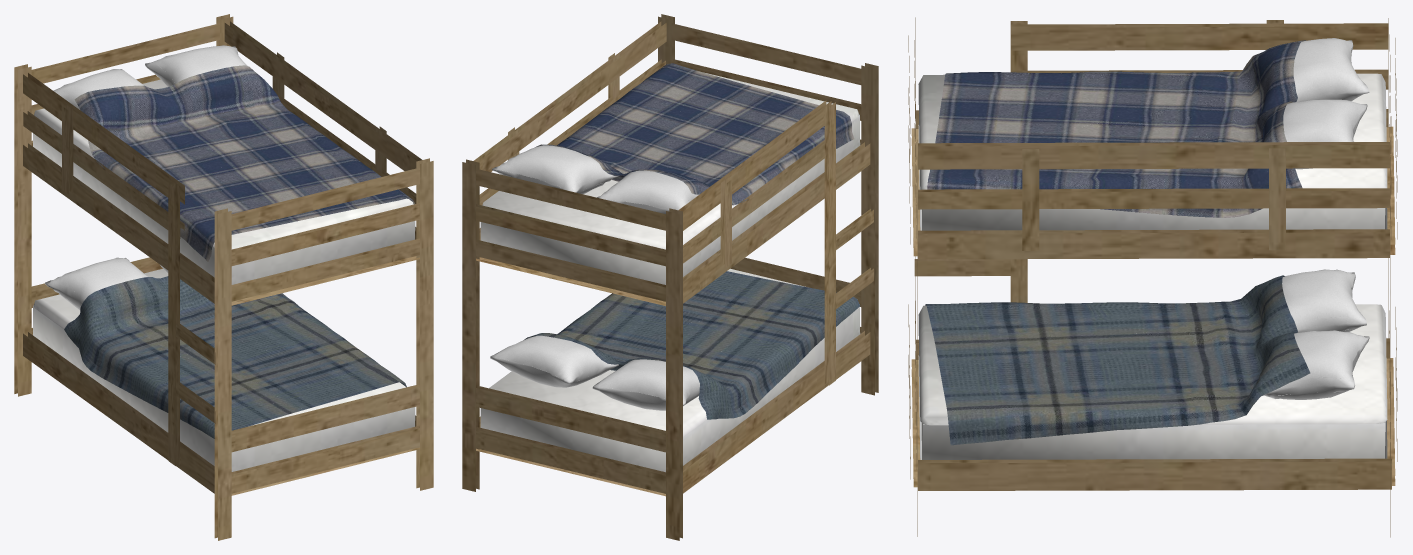
File: bed-18.glb
3 views of the same model, side by side, from view 1: azimuth 30°, elevation 25°; view 2: azimuth 150°, elevation 25°; view 3: azimuth 270°, elevation 25° (orthographic). The views are drawn at different scales.
Visible parts, largest first — view 1: Object_2, Object_4, Object_3, Object_5, Object_8, Object_7, Object_6; view 2: Object_2, Object_3, Object_4, Object_8, Object_5, Object_6, Object_7; view 3: Object_2, Object_3, Object_4, Object_8, Object_5, Object_6, Object_7.
Boxes of the visible parts, x1,y1,x2,y2 form: Object_2: [14, 14, 433, 540]; Object_4: [74, 65, 414, 261]; Object_3: [64, 276, 406, 438]; Object_5: [33, 79, 415, 284]; Object_8: [33, 269, 415, 471]; Object_7: [53, 45, 247, 109]; Object_6: [45, 257, 168, 309]; Object_2: [462, 14, 878, 540]; Object_3: [524, 271, 859, 419]; Object_4: [535, 63, 854, 205]; Object_8: [480, 268, 860, 472]; Object_5: [480, 73, 860, 284]; Object_6: [490, 335, 699, 410]; Object_7: [492, 145, 698, 213]; Object_2: [908, 17, 1397, 537]; Object_3: [925, 275, 1310, 445]; Object_4: [927, 40, 1305, 217]; Object_8: [918, 304, 1387, 459]; Object_5: [918, 73, 1387, 230]; Object_6: [1263, 269, 1369, 399]; Object_7: [1283, 38, 1369, 169].
Size of the model in its own units: 5.63 by 8.03 by 9.01.
7 materials, 7 textured.
